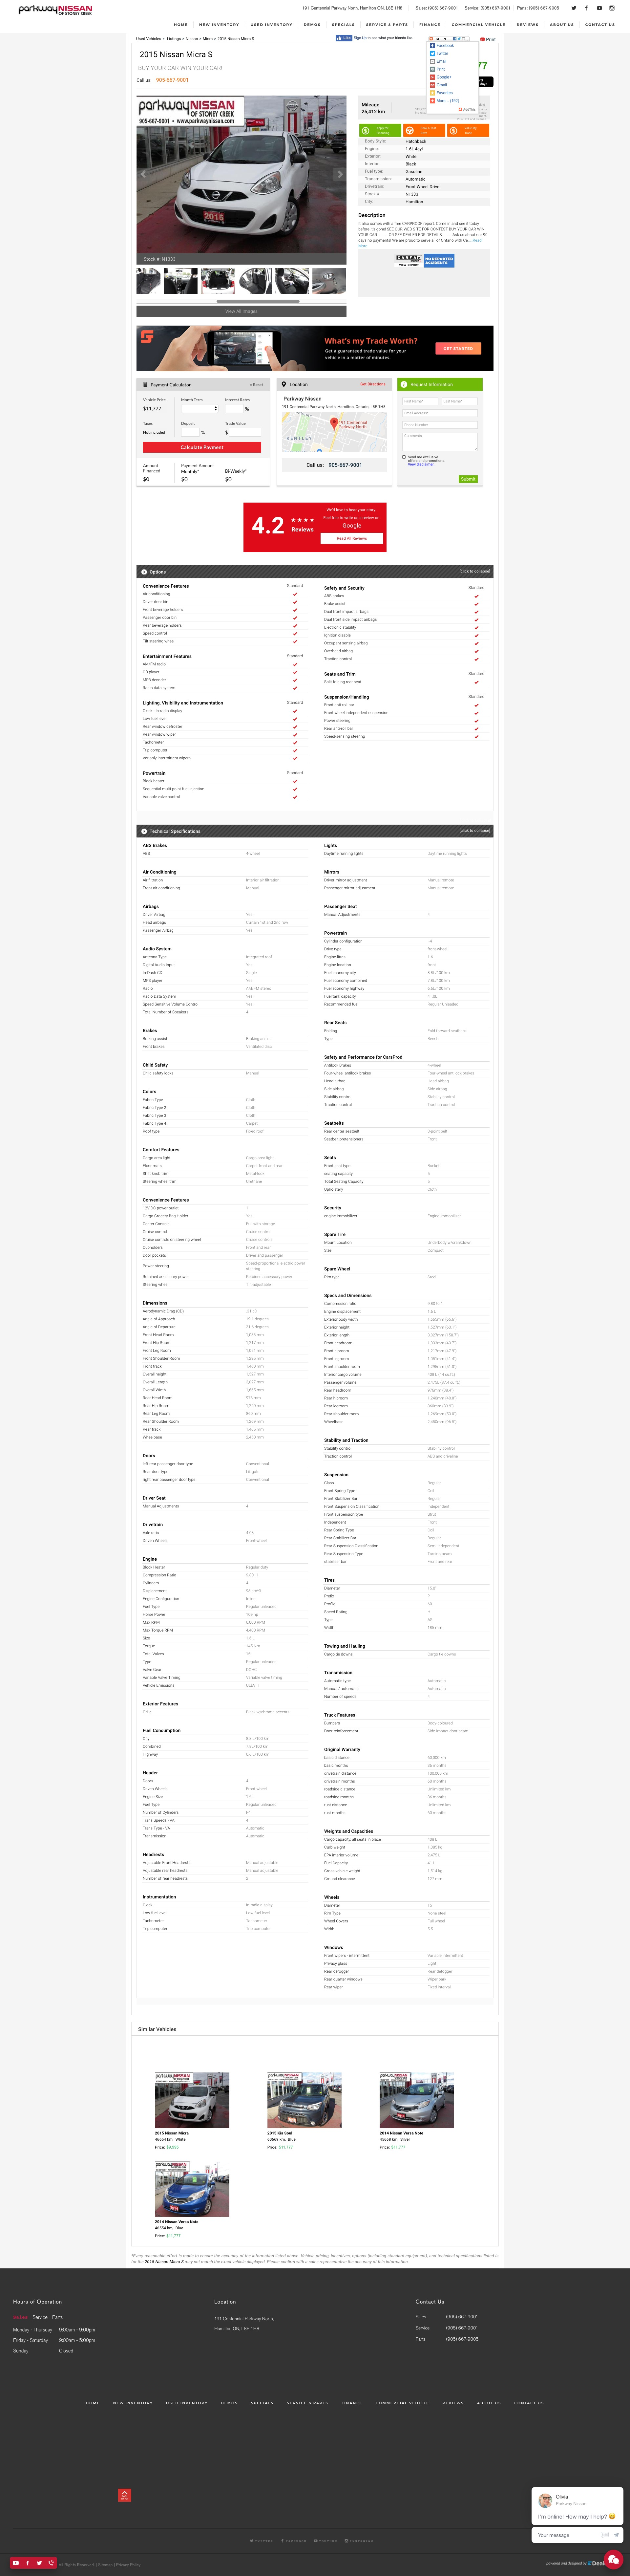car: (331, 168, 348, 182)
